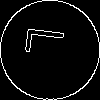L: (25, 25, 74, 59)
